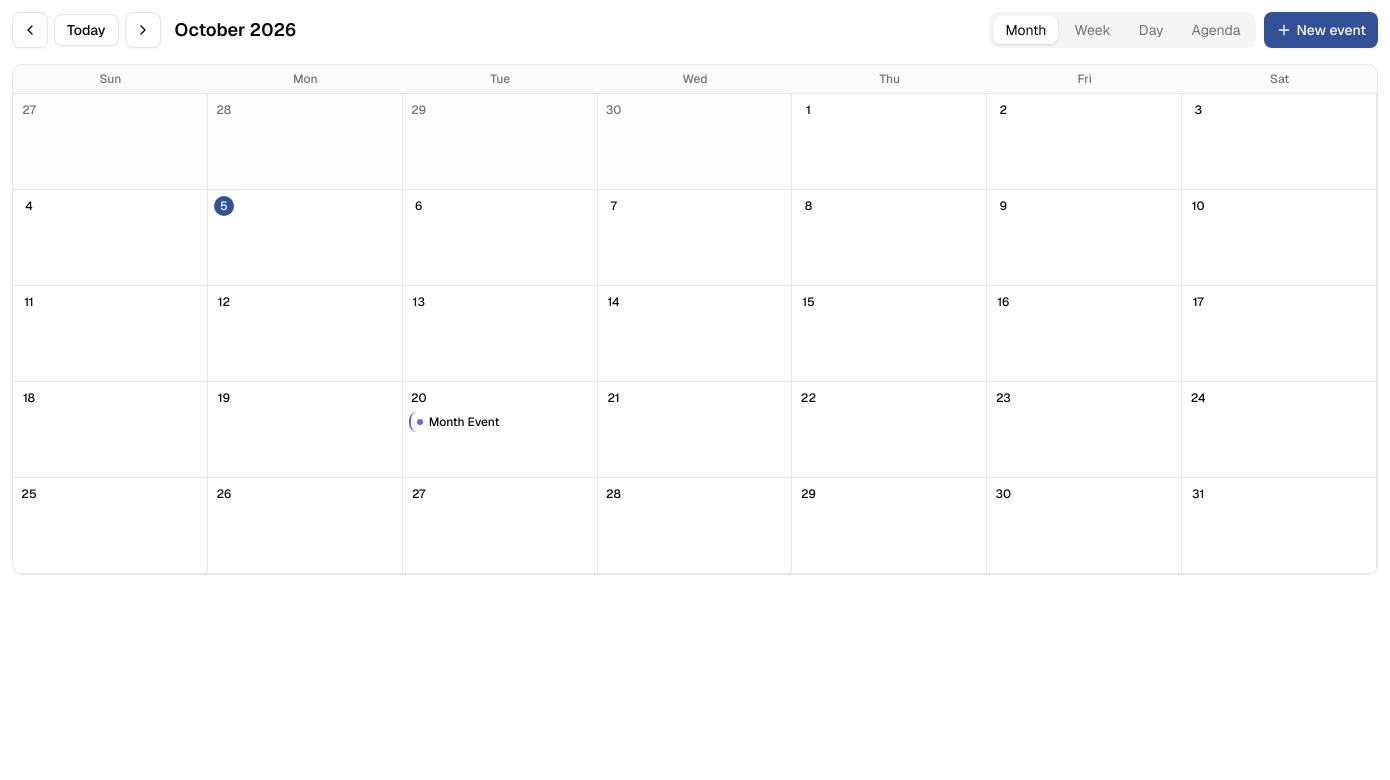
Test: CalendarView range switching › refetches for week and agenda ranges as well
Click the button "Week": [1093, 30] box [1062, 16, 1123, 44]
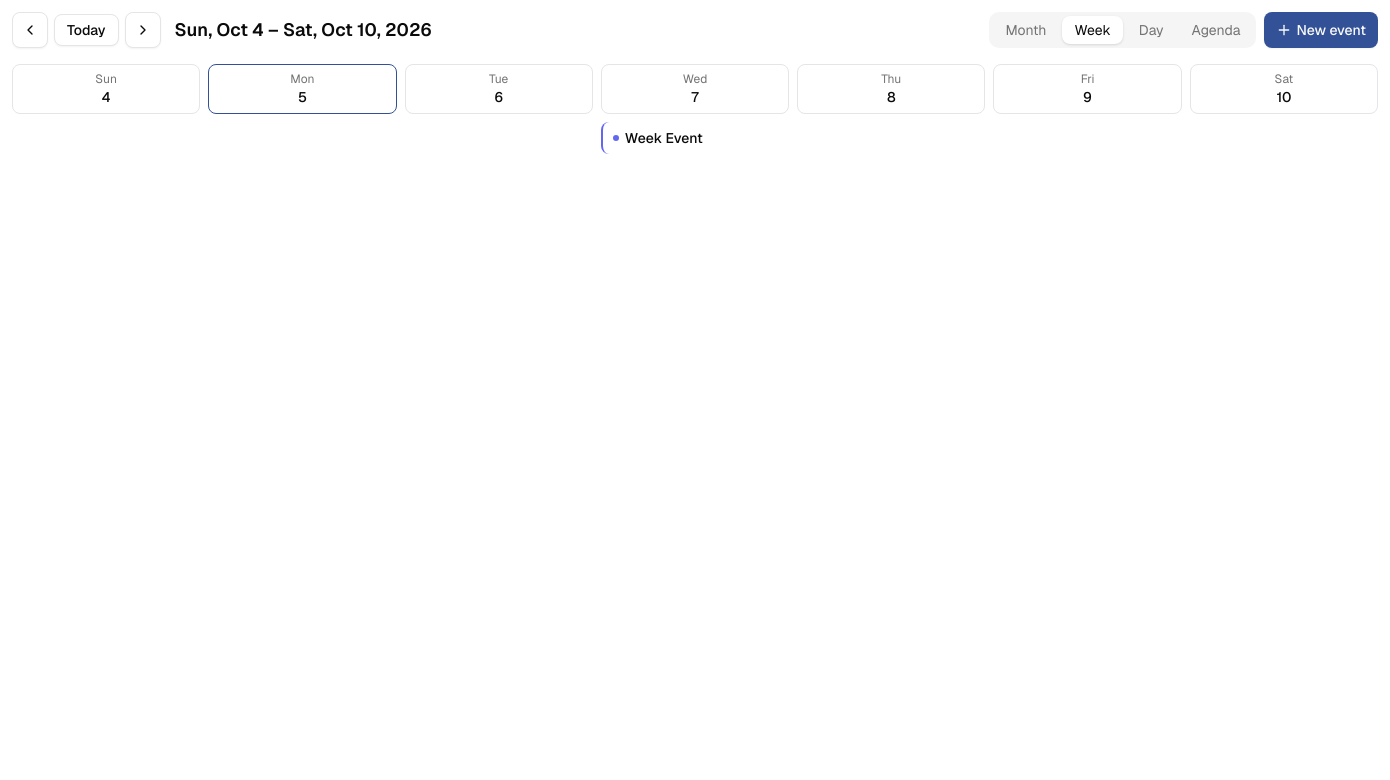
Expected: the text "Week Event" is shown, [625, 128, 703, 148]
Expected: the button "Month Event" is gone
Click the button "Agenda": [1216, 30] box [1180, 16, 1252, 44]
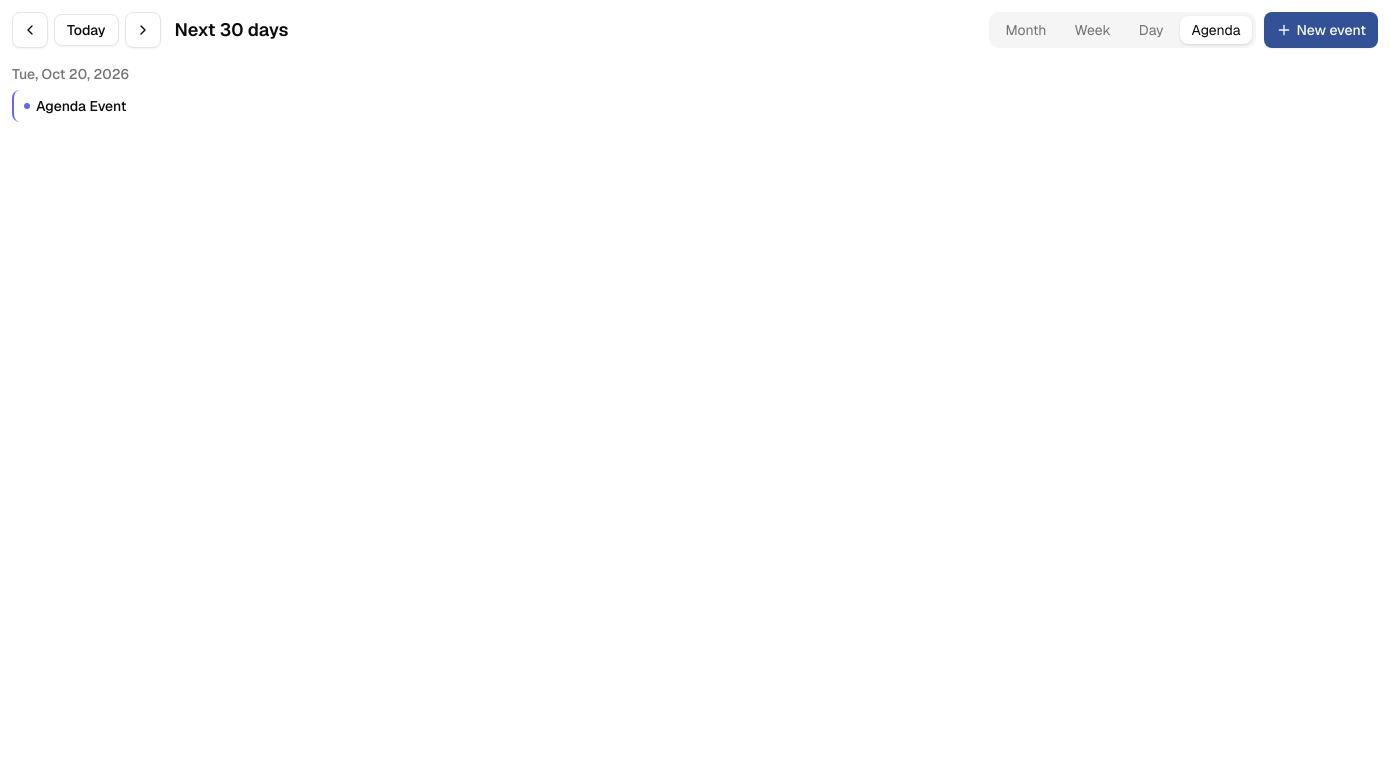
Expected: the text "Agenda Event" is shown, [36, 96, 126, 116]
Expected: the button "Week Event" is gone
Note: Returning to Week must reload the week range again.
Click the button "Week": [1093, 30] box [1062, 16, 1123, 44]
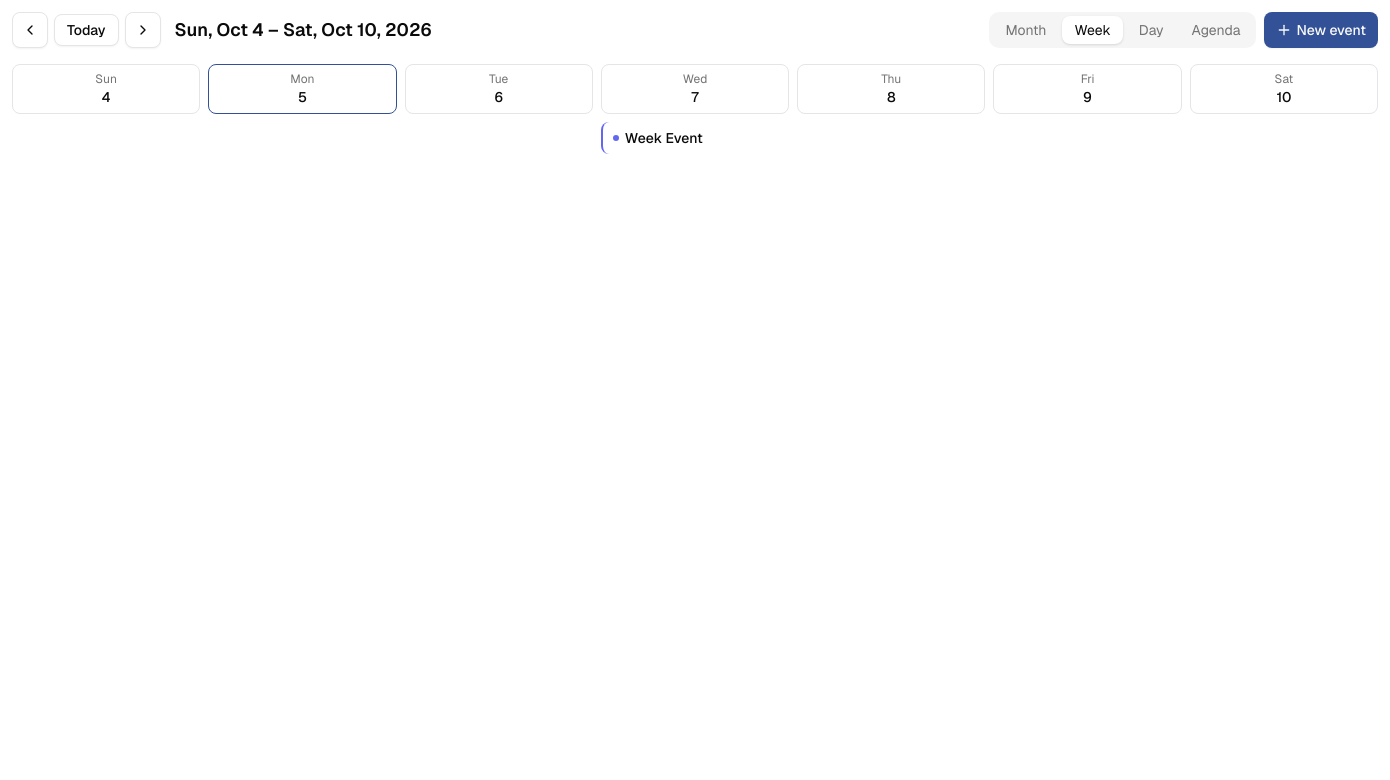
Expected: the text "Week Event" is shown, [625, 128, 703, 148]
Expected: the button "Agenda Event" is gone
